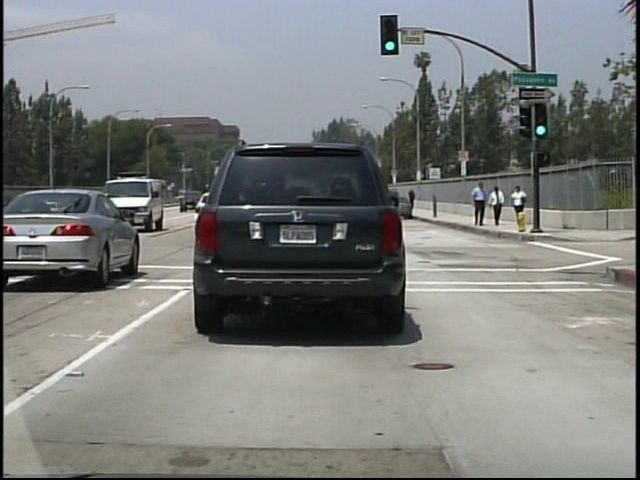person: (470, 180, 488, 229), (489, 184, 506, 228), (511, 184, 528, 214), (408, 188, 419, 204)
